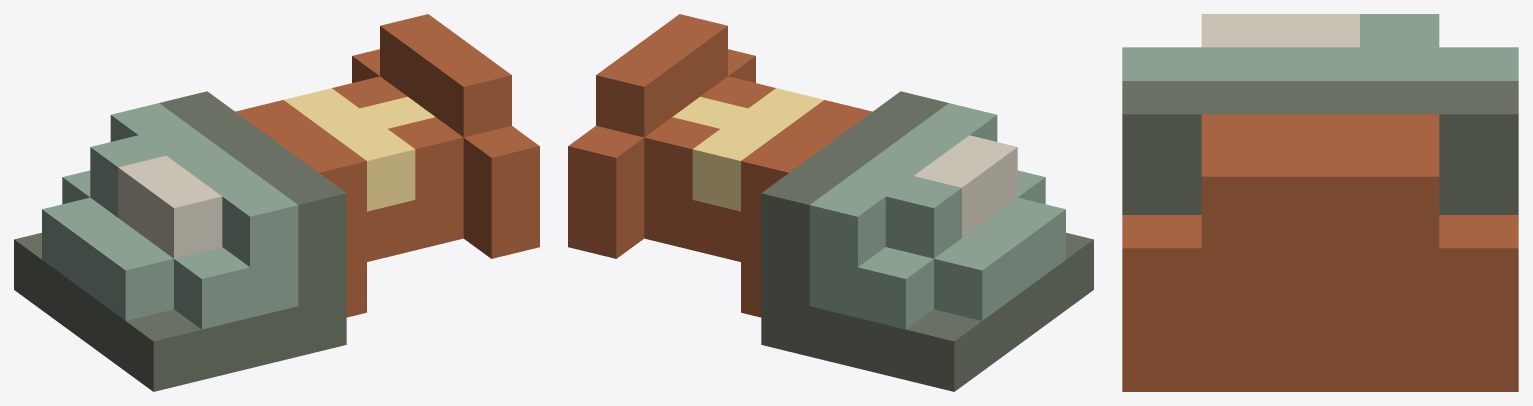
Rendered from MSquireArmUpperL.fbx.
The picture shows the model from 3 angles, left to right: view 1: azimuth 30°, elevation 25°; view 2: azimuth 150°, elevation 25°; view 3: azimuth 270°, elevation 25°; orthographic projection. The views are drawn at different scales.
Visible parts, largest first — view 1: SquireArms; view 2: SquireArms; view 3: SquireArms.
Boxes of the visible parts, box(x1,y1,x2,y2) form: SquireArms: box(14, 14, 539, 391); SquireArms: box(568, 14, 1093, 391); SquireArms: box(1122, 14, 1518, 391).
Size of the model in its own units: 8 by 4 by 5.
Materials: 1 (1 with a texture image).
